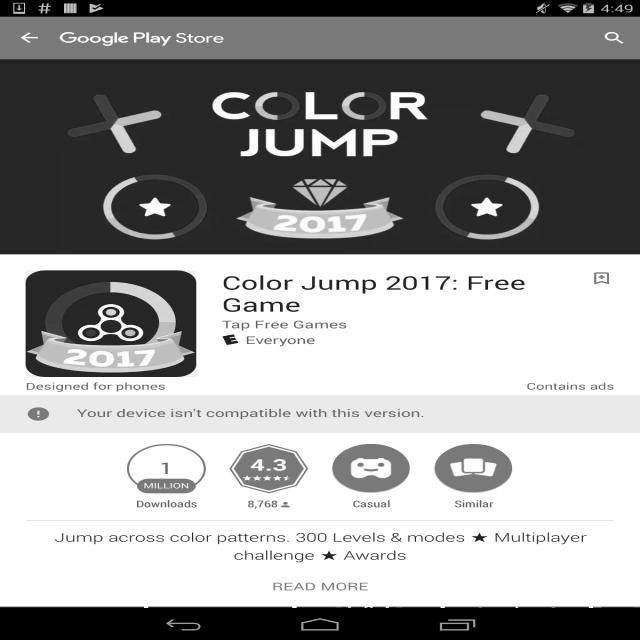Button: (222, 444, 316, 510), (324, 444, 418, 510), (426, 444, 520, 510)
ImageButton: (0, 17, 60, 59)
ImageView: (0, 59, 640, 254), (26, 270, 196, 377), (296, 588, 441, 640), (0, 588, 144, 640), (148, 588, 292, 640), (445, 588, 589, 640), (332, 444, 411, 493), (434, 444, 513, 493), (60, 30, 224, 46), (593, 588, 640, 640), (589, 270, 614, 286), (26, 406, 51, 422), (222, 334, 239, 345), (281, 502, 290, 507)
TextView: (0, 529, 640, 575), (222, 270, 589, 317), (0, 575, 640, 593), (77, 406, 424, 422), (222, 317, 347, 331), (25, 380, 166, 392), (589, 22, 640, 54), (324, 493, 418, 510), (426, 493, 520, 510), (120, 493, 213, 510), (526, 380, 614, 392), (245, 333, 316, 347), (250, 454, 288, 475), (247, 493, 278, 510), (142, 482, 192, 490), (159, 459, 173, 478)
